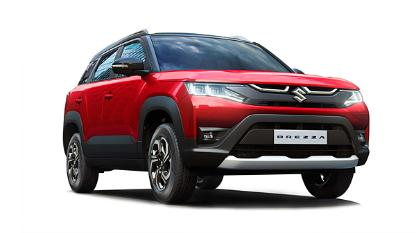car: (57, 16, 373, 216)
